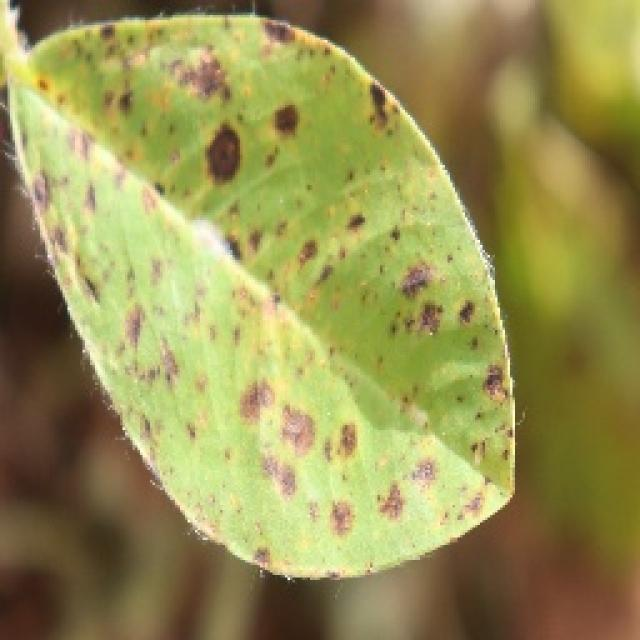Yellowish: (0, 0, 516, 555)
